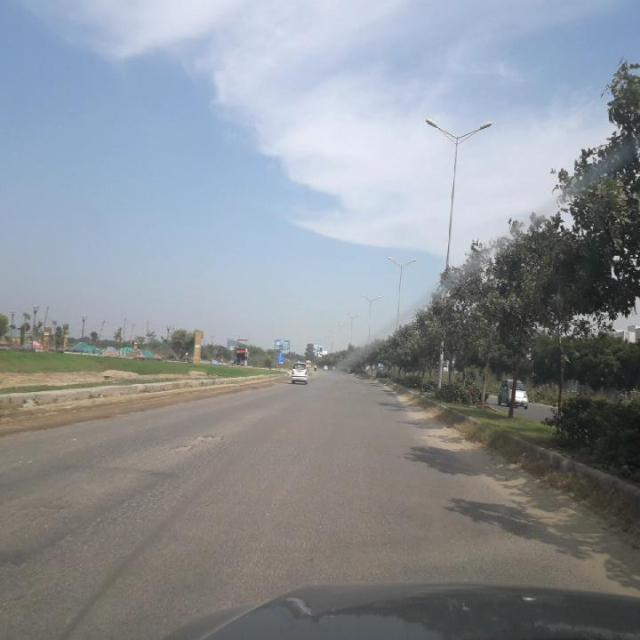D20: (24, 458, 218, 584)
D40: (1, 498, 56, 540), (161, 442, 195, 456), (192, 428, 226, 442)
